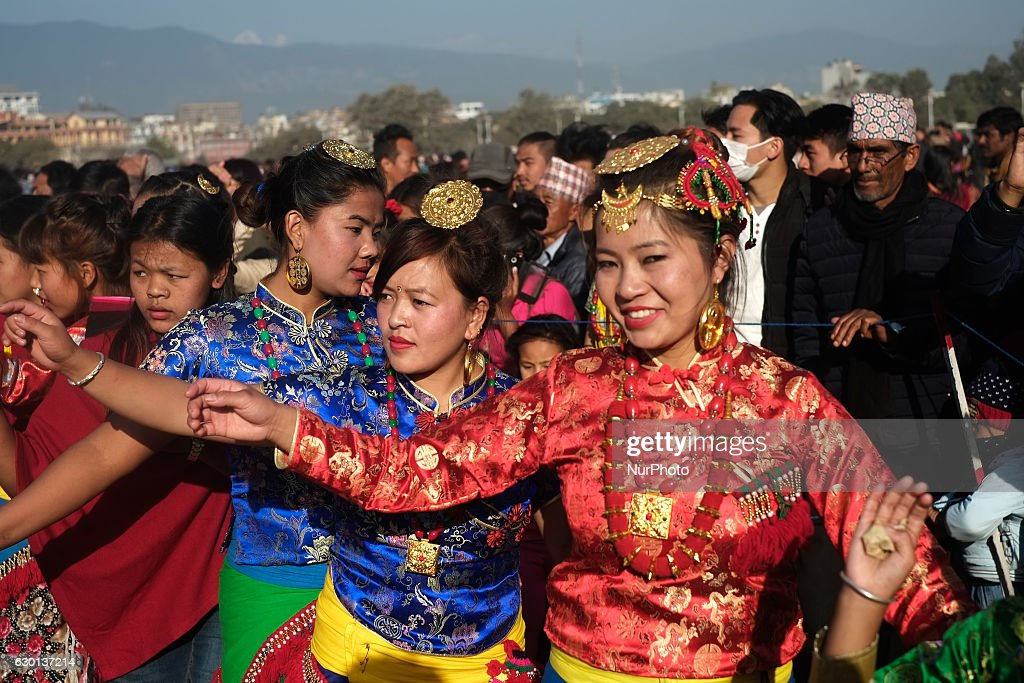human: (180, 124, 959, 683), (15, 184, 538, 683), (6, 142, 405, 683), (796, 84, 983, 397)
